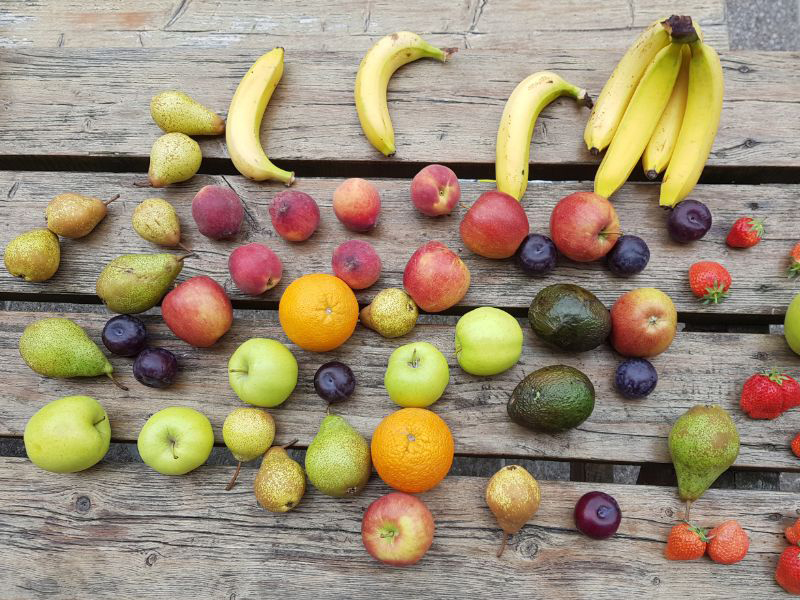avocado: (527, 279, 621, 357), (507, 362, 599, 436)
banana: (582, 7, 729, 193), (349, 26, 454, 153)
strawberry: (734, 361, 800, 418), (683, 256, 728, 309), (663, 518, 707, 567), (727, 210, 764, 253)
